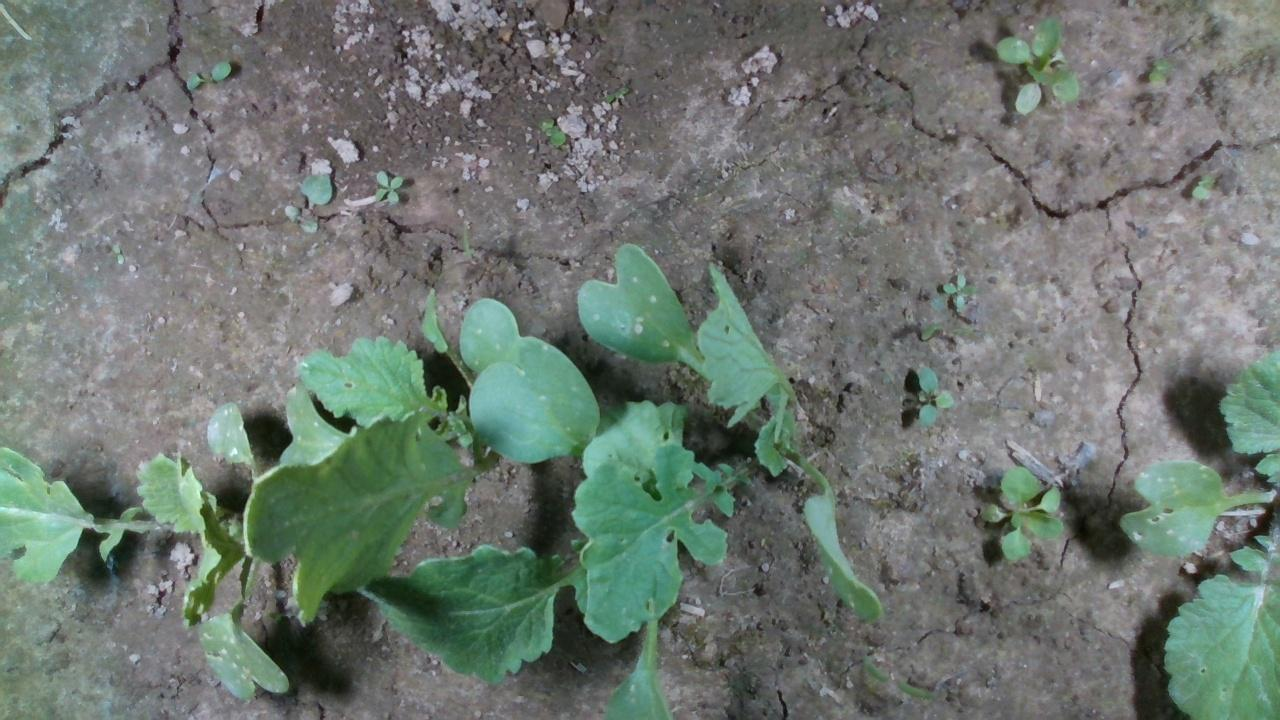weed: (178, 63, 243, 91), (938, 268, 976, 313), (370, 166, 413, 205)
